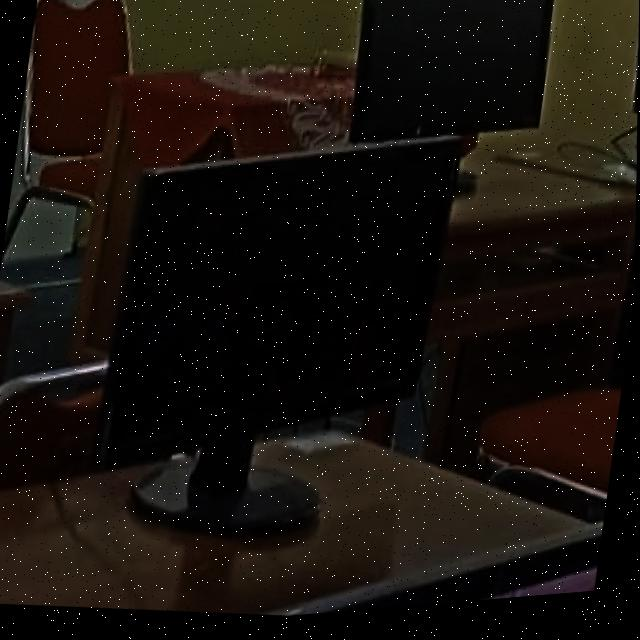offscreen: (104, 144, 458, 466), (353, 0, 552, 146)
